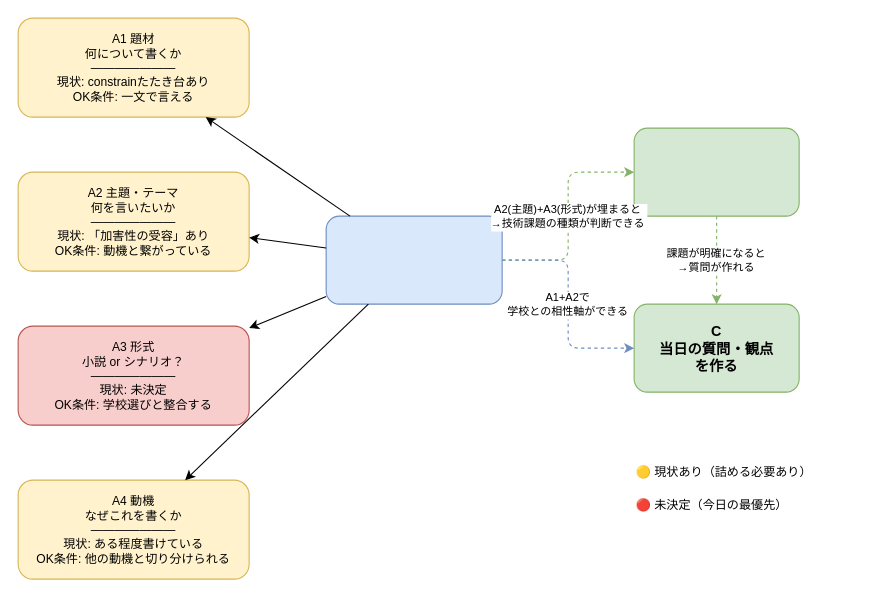
Some shapes in this 872 by 597 pixel diagram are drawn without their labels. Here are the shapes that lost their labels. From the top down, the centre of each, then its label:
the point at 716,171: B 今の自分の課題 を書く
the point at 413,259: A 書きたいものを 明確にする
